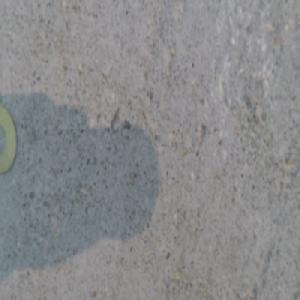Washer: (0, 107, 18, 173)
